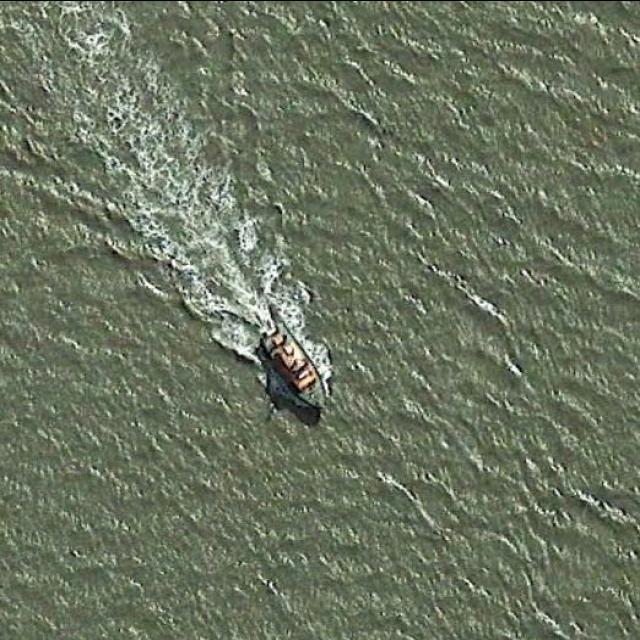ship: (258, 313, 332, 411)
